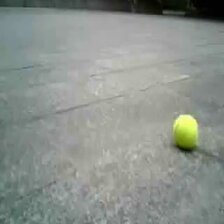tennis: (172, 116, 199, 149)
